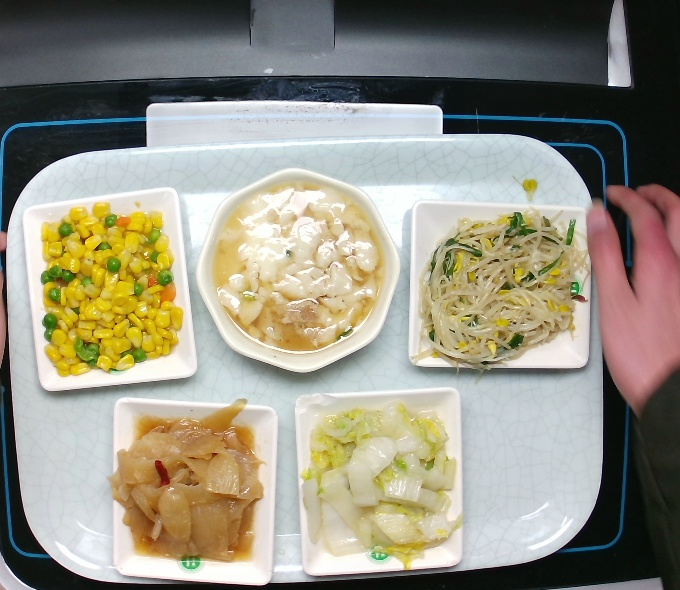wcq-DaBaiCai: (296, 398, 468, 576)
wcq-DongGua: (104, 393, 269, 570)
wcq-DouYa: (404, 203, 598, 384)
wcq-ShuiZhengDan: (200, 173, 393, 362)
wcq-TianMiTianDou: (34, 197, 189, 384)
